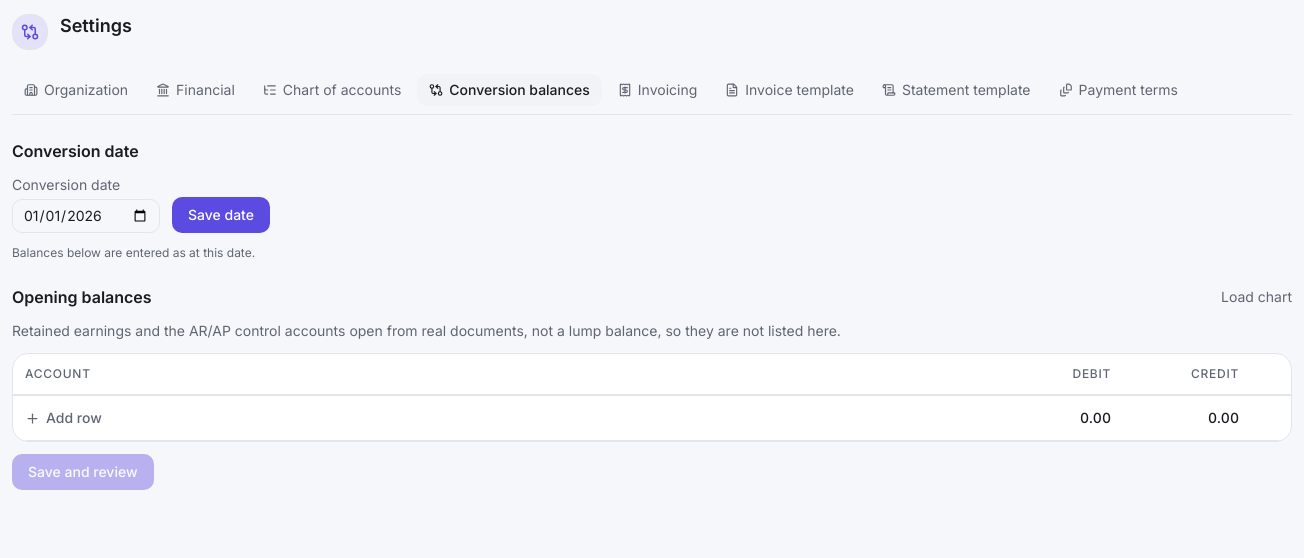
Test case: ConversionBalancesPage › a malformed amount refuses to save with the two-decimal-place message
Click the button "Add row" at [63, 418], box [25,408,102,428]
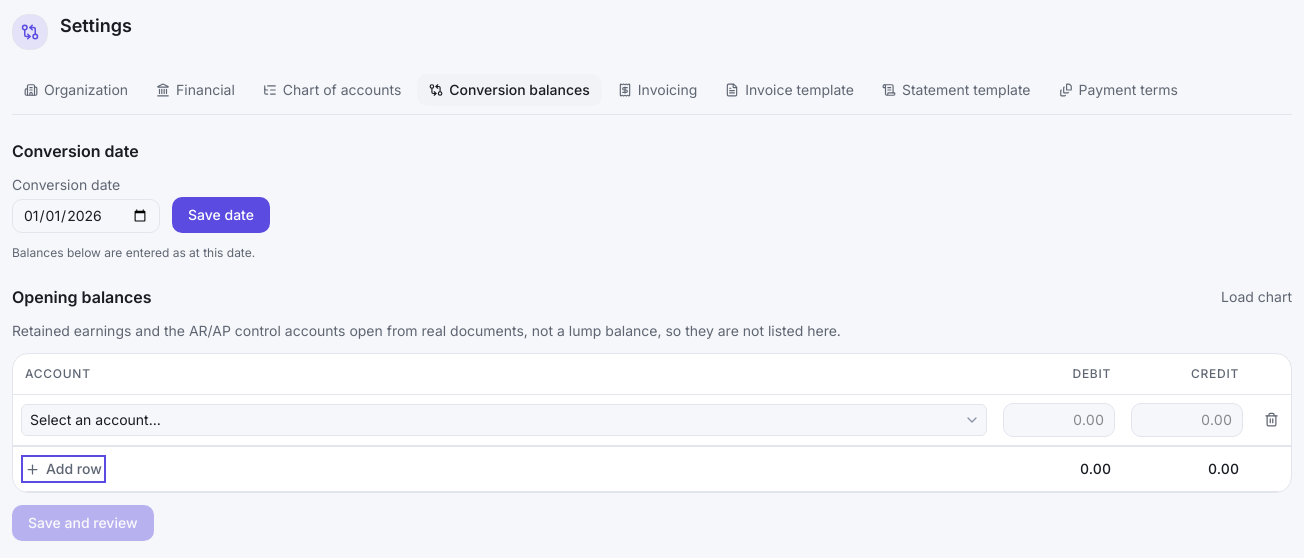
Select "1110 · Operating Cash" in the dropdown named "Account for row 1" at [504, 420], box [21,404,987,436]
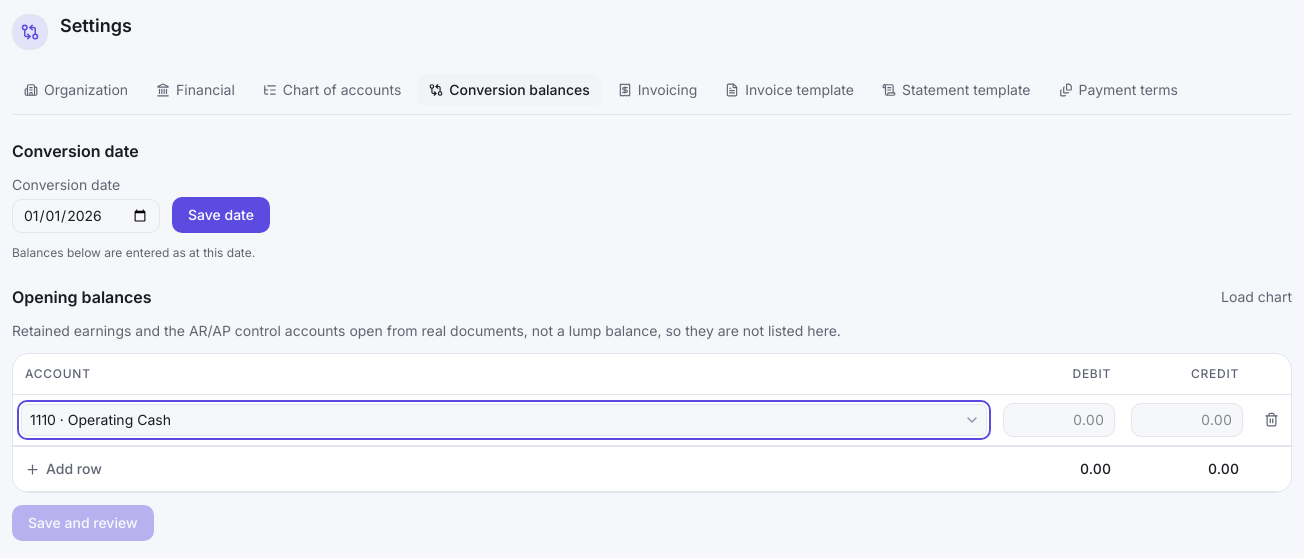
Type "1.234" into the field named "Debit for row 1" at [1059, 420], box [1003,403,1115,437]
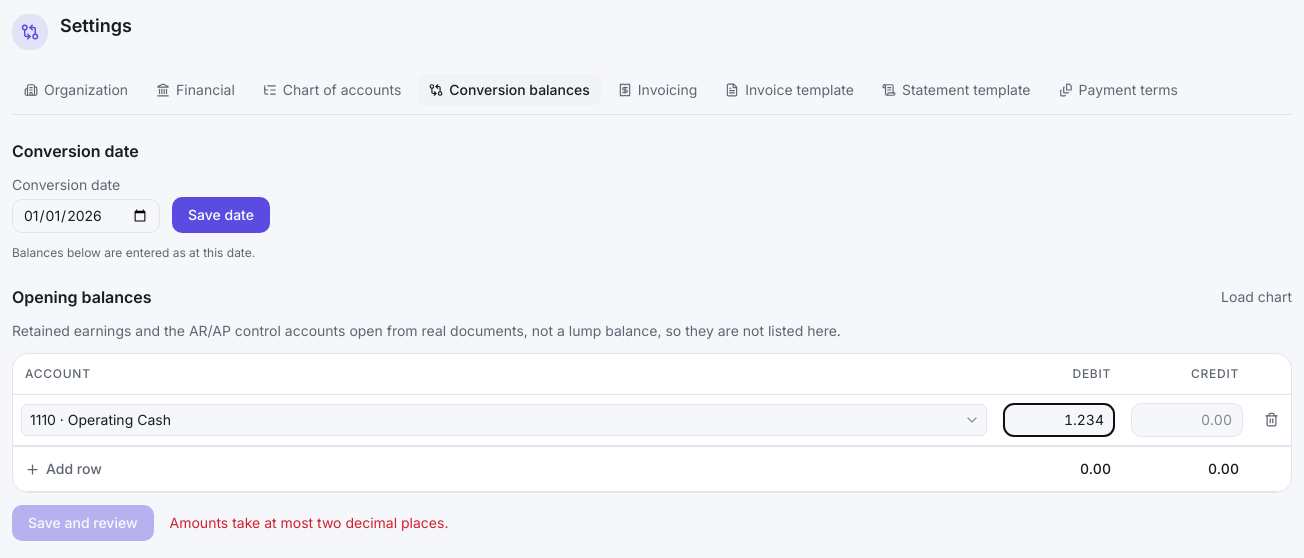
Expected: the button "Save and review" is disabled, [12,505,154,541]
Expected: the text "Amounts take at most two decimal places." is shown, [170,513,448,533]
